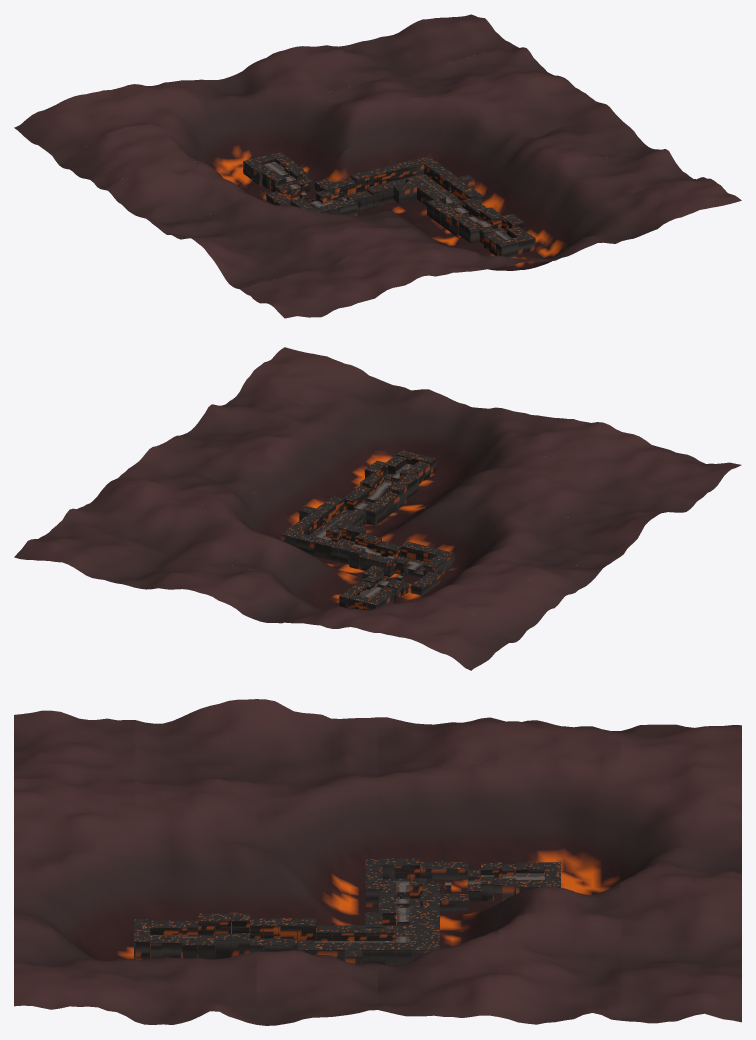
File: molten_river_terrain.glb
3 views of the same model, one above another, from view 1: azimuth 30°, elevation 25°; view 2: azimuth 150°, elevation 25°; view 3: azimuth 270°, elevation 25° (orthographic). The views are drawn at different scales.
Parts seen in each view (by area): view 1: backdrop_5, backdrop_4, backdrop_3, backdrop_1, backdrop_0, backdrop_2, terrain_G, terrain_E, terrain_F, terrain_C, terrain_H, terrain_A (+4 smaller); view 2: backdrop_0, backdrop_2, backdrop_1, backdrop_5, backdrop_4, backdrop_3, terrain_G, terrain_E, terrain_C, terrain_F, terrain_H, terrain_J (+4 smaller); view 3: backdrop_5, backdrop_0, backdrop_4, backdrop_1, backdrop_2, backdrop_3, terrain_E, terrain_G, terrain_H, terrain_C, terrain_B, terrain_A (+4 smaller).
Boxes of the visible parts, box(x1,y1,x2,y2) form: backdrop_5: box(14, 14, 515, 165); backdrop_4: box(59, 46, 560, 193); backdrop_3: box(104, 74, 605, 223); backdrop_1: box(195, 148, 695, 289); backdrop_0: box(240, 177, 741, 318); backdrop_2: box(150, 104, 651, 248); terrain_G: box(294, 172, 383, 216); terrain_E: box(401, 156, 474, 206); terrain_F: box(361, 163, 420, 203); terrain_C: box(434, 198, 497, 237); terrain_H: box(266, 178, 343, 206); terrain_A: box(483, 226, 535, 257); backdrop_0: box(240, 347, 741, 501); backdrop_2: box(150, 427, 650, 570); backdrop_1: box(195, 392, 696, 526); backdrop_5: box(14, 523, 515, 670); backdrop_4: box(59, 484, 560, 641); backdrop_3: box(105, 449, 605, 602); terrain_G: box(349, 535, 454, 577); terrain_E: box(281, 505, 360, 553); terrain_C: box(344, 477, 406, 520); terrain_F: box(309, 523, 370, 564); terrain_H: box(362, 556, 440, 595); terrain_J: box(339, 584, 393, 610); backdrop_5: box(620, 724, 741, 1023); backdrop_0: box(14, 710, 135, 1021); backdrop_4: box(499, 720, 620, 1024); backdrop_1: box(135, 699, 256, 1024); backdrop_2: box(256, 699, 377, 1025); backdrop_3: box(378, 717, 499, 1017); terrain_E: box(332, 925, 439, 965); terrain_G: box(365, 858, 439, 918); terrain_H: box(409, 858, 480, 911); terrain_C: box(231, 913, 297, 956); terrain_B: box(182, 913, 231, 959); terrain_A: box(134, 919, 181, 958).
Bounding box in the file's own units: 532 × 69.03 × 546.
